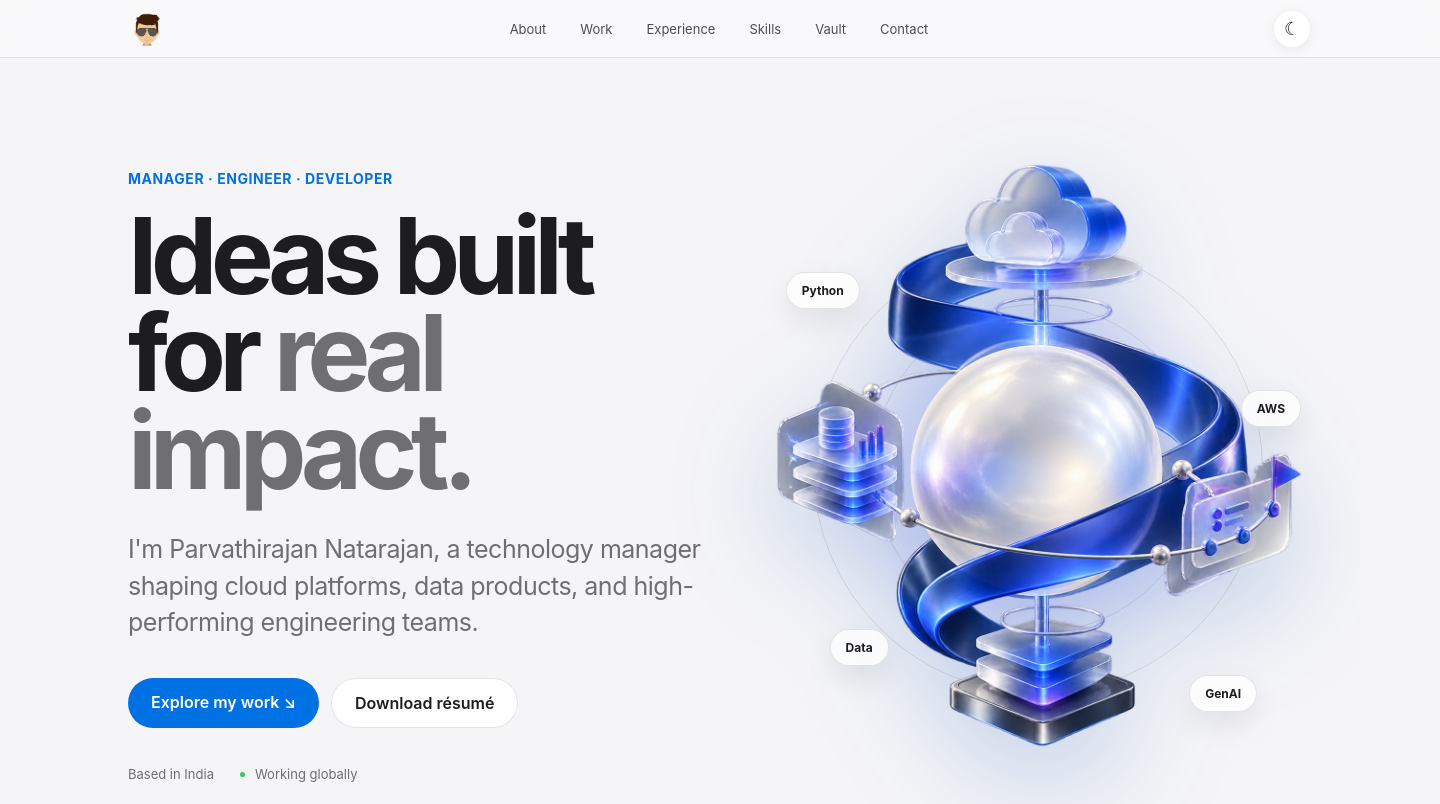
reveals the passcode form only after opening Parvathirajan's Vault
Expected: the field labelled "Passcode" is not shown
Expected: the heading "Parvathirajan's Vault." is not shown
Click the link "vault". click: [831, 28]
box: [815, 20, 846, 36]
(page scrolled)
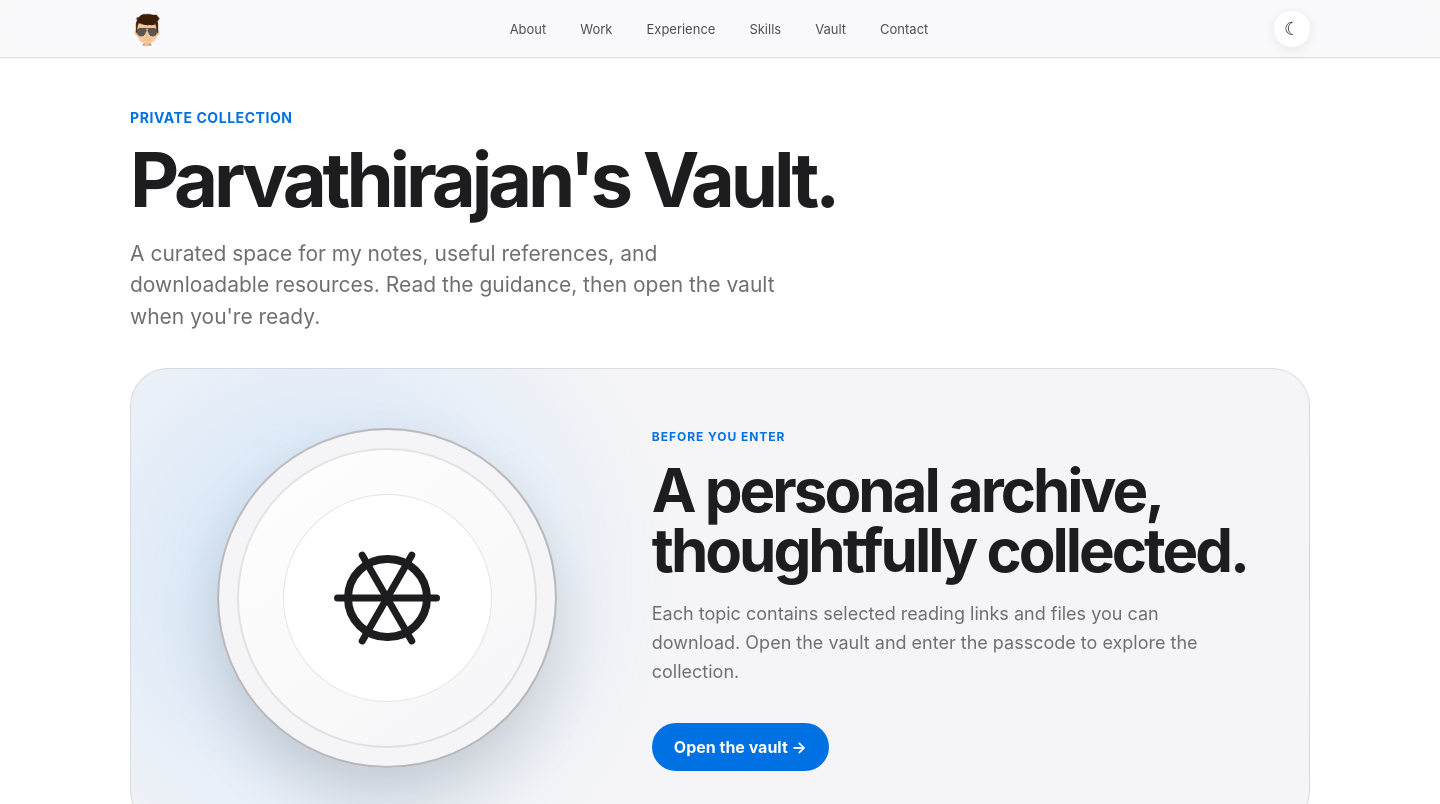
Now the heading "A personal archive, thoughtfully collected." is shown, box [652, 460, 1253, 580]
Click the button "Open the vault →". click: [740, 747]
box: [652, 723, 829, 771]
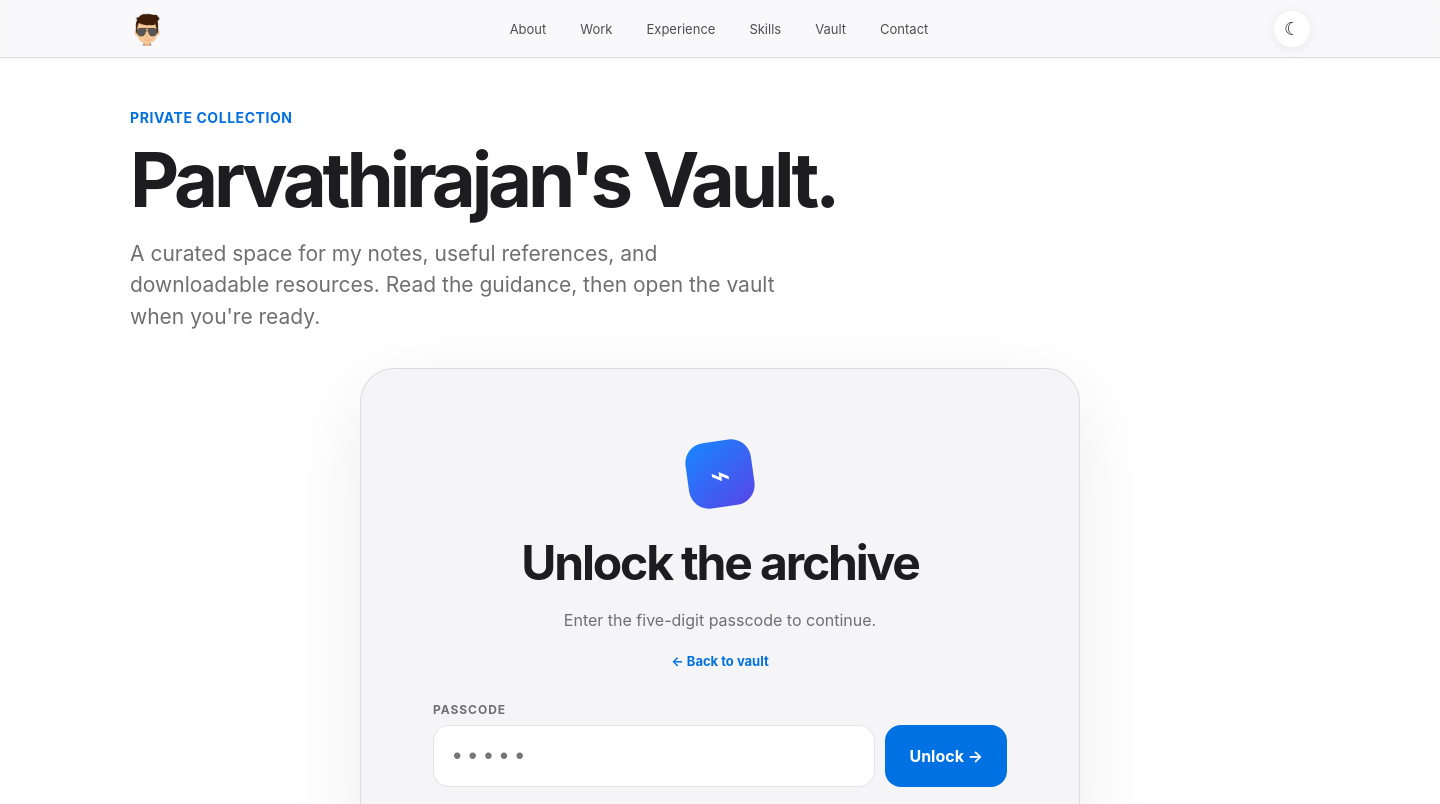
Now the password field labelled "Passcode" is shown
Type "12345" into the password field labelled "Passcode". click: [654, 756]
box: [433, 725, 875, 787]
Click the button "Unlock →". click: [946, 756]
box: [885, 725, 1007, 787]
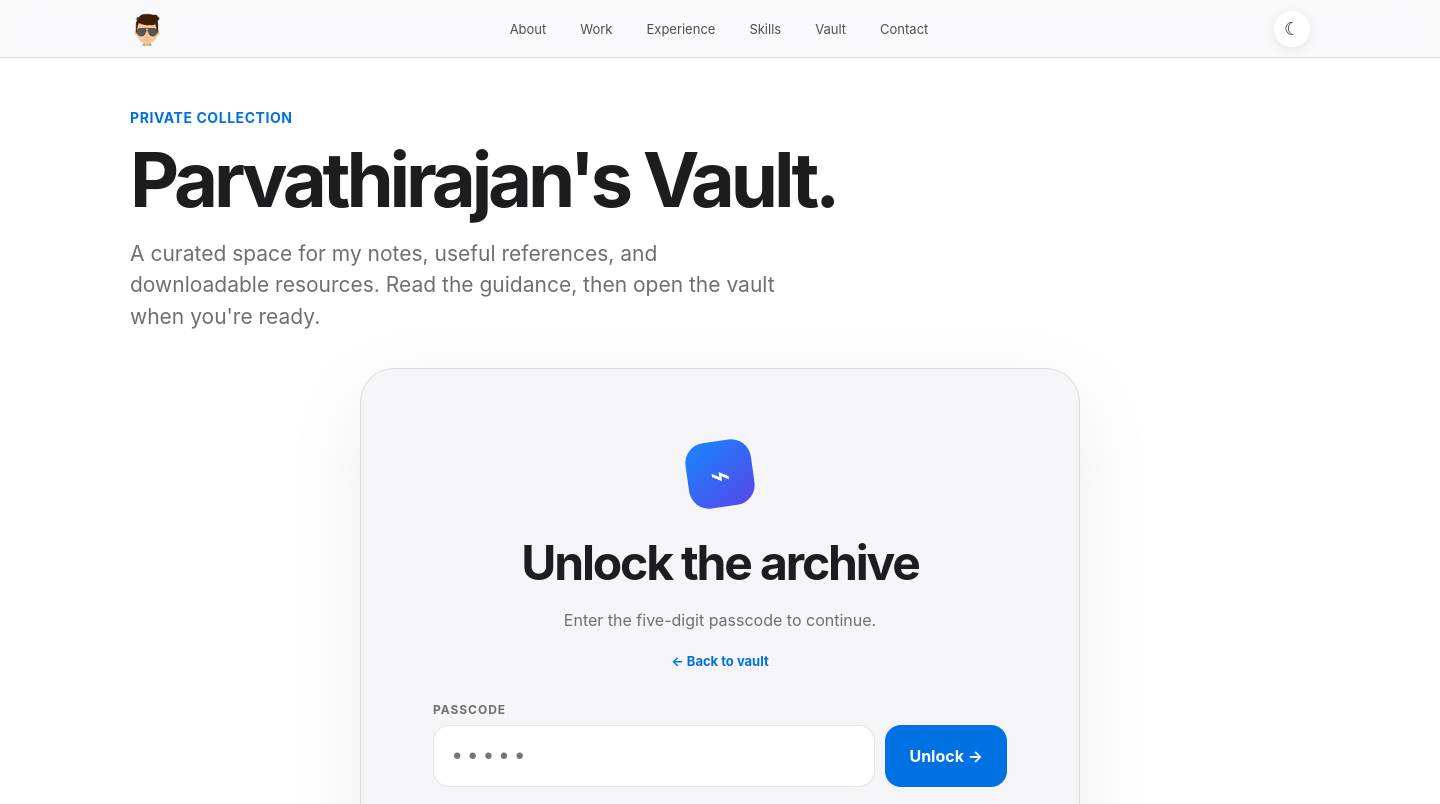
Type "00444" into the password field labelled "Passcode". click: [654, 756]
box: [433, 725, 875, 787]
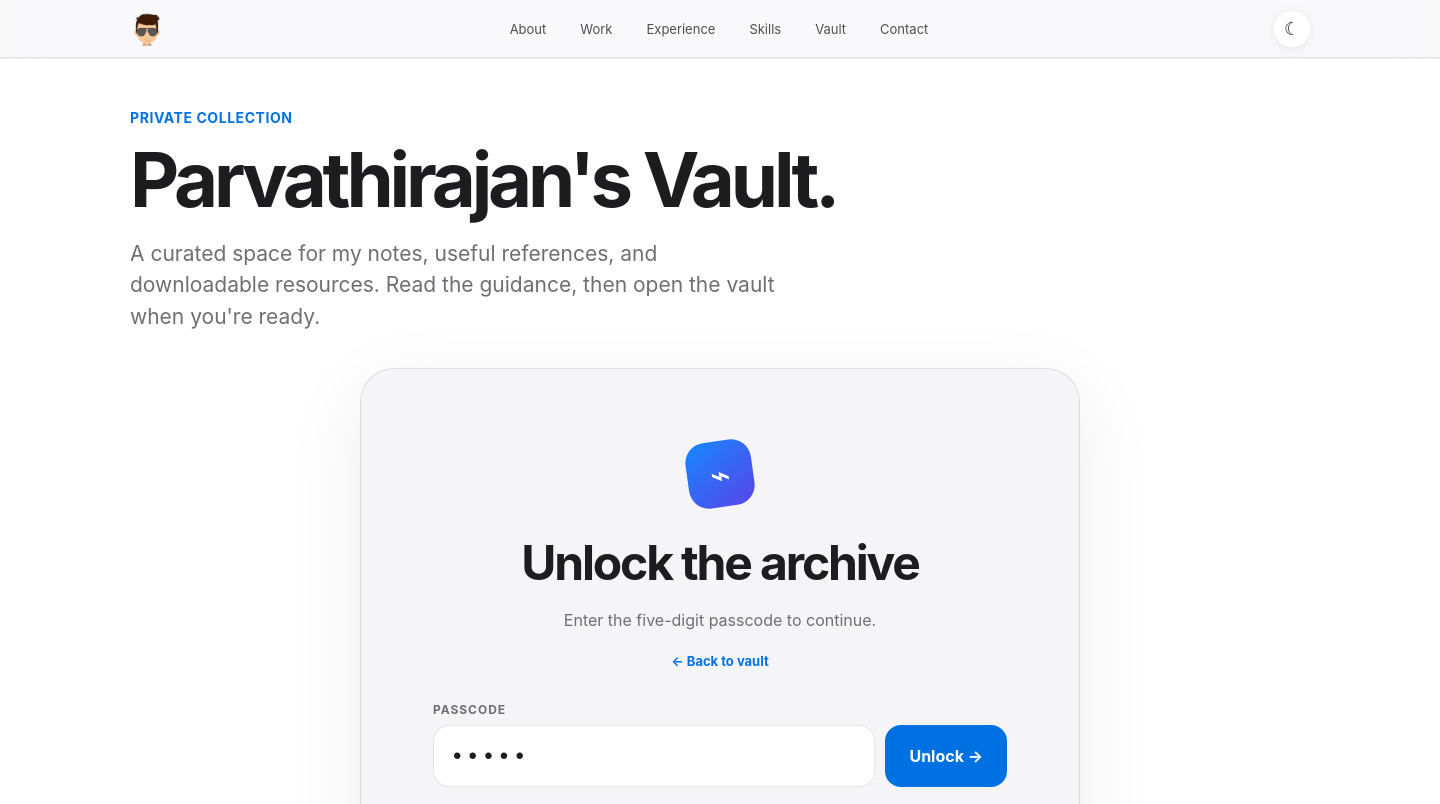
Click the button "Unlock →". click: [946, 756]
box: [885, 725, 1007, 787]
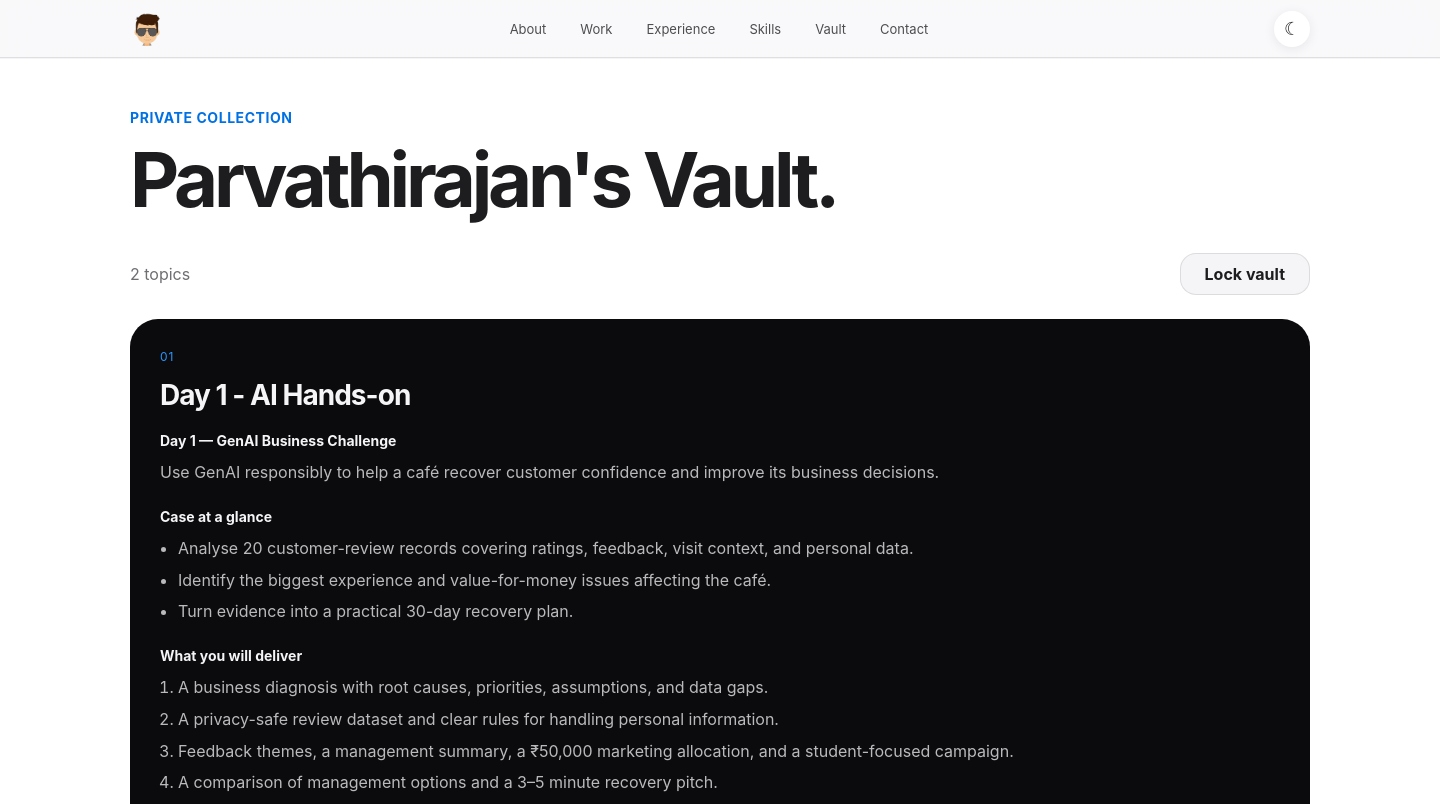
Now the list item "Analyse 20 customer-review records" is shown, box [178, 538, 914, 558]
Now the text "Read the guidance, then open the vault" is gone
Click the button "Lock vault". click: [1245, 274]
box: [1180, 253, 1310, 295]
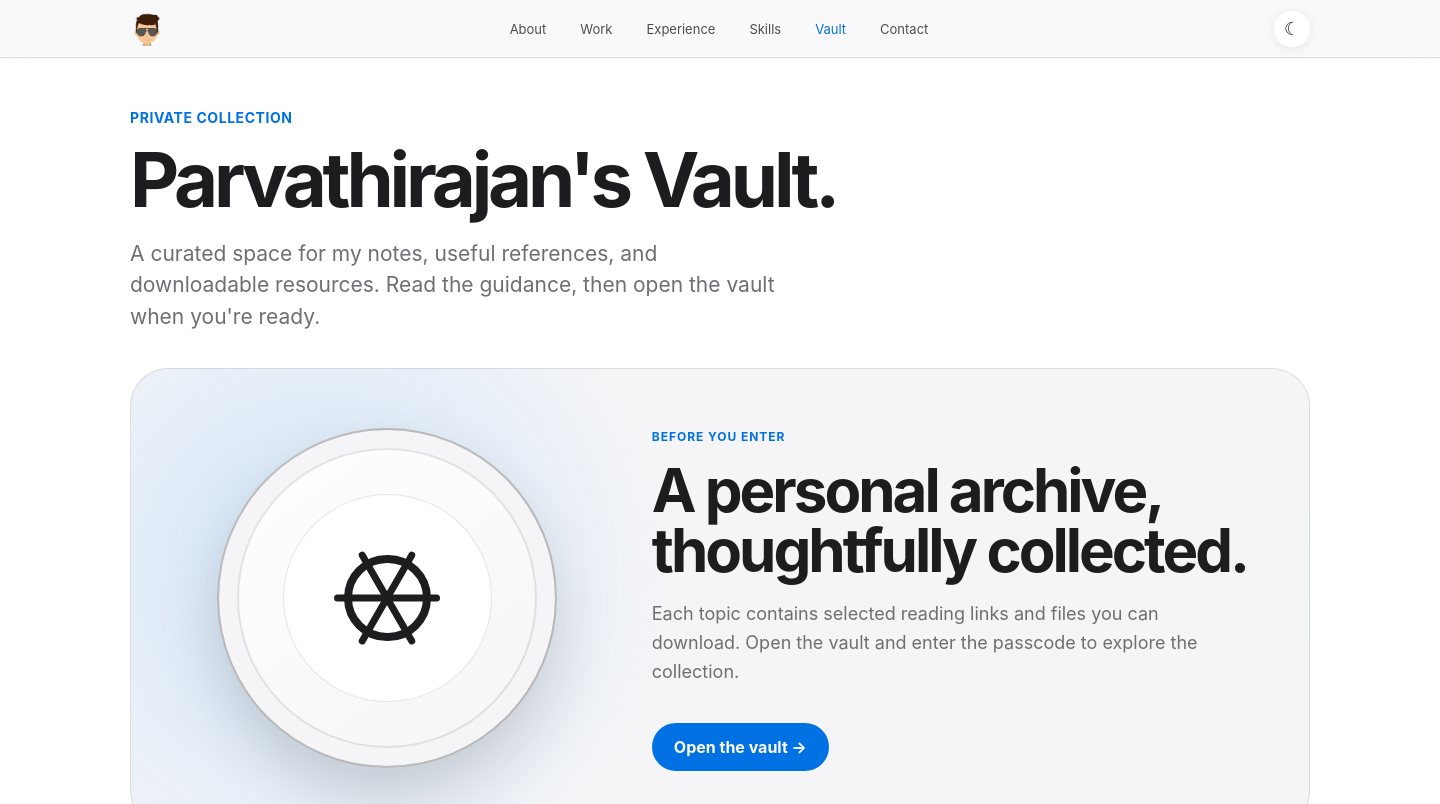
Expected: the field labelled "Passcode" is not shown
Now the button "Open the vault →" is shown, box [652, 723, 829, 771]
